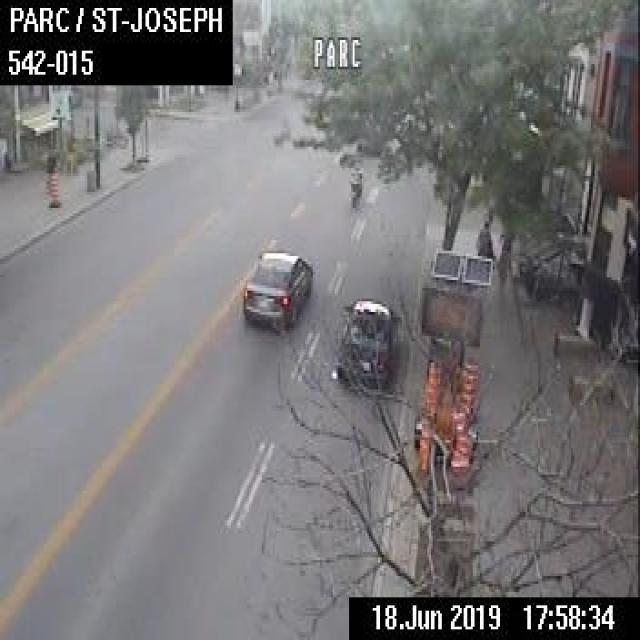construction: (411, 248, 491, 461), (452, 360, 478, 423), (418, 360, 441, 417), (449, 410, 469, 470), (415, 418, 430, 473), (48, 170, 58, 206)
pedestrian: (494, 229, 512, 279), (475, 219, 493, 257)
vehicle: (333, 296, 401, 392), (241, 250, 313, 328), (348, 160, 361, 205)
